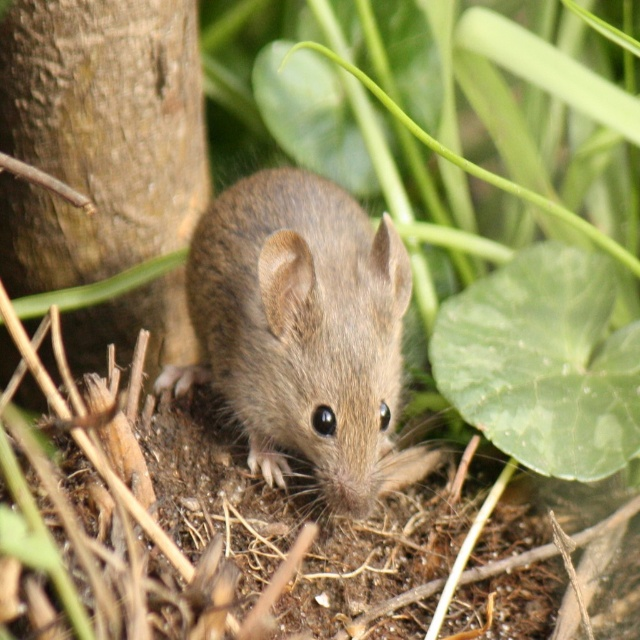Mouse: (149, 161, 501, 548)
